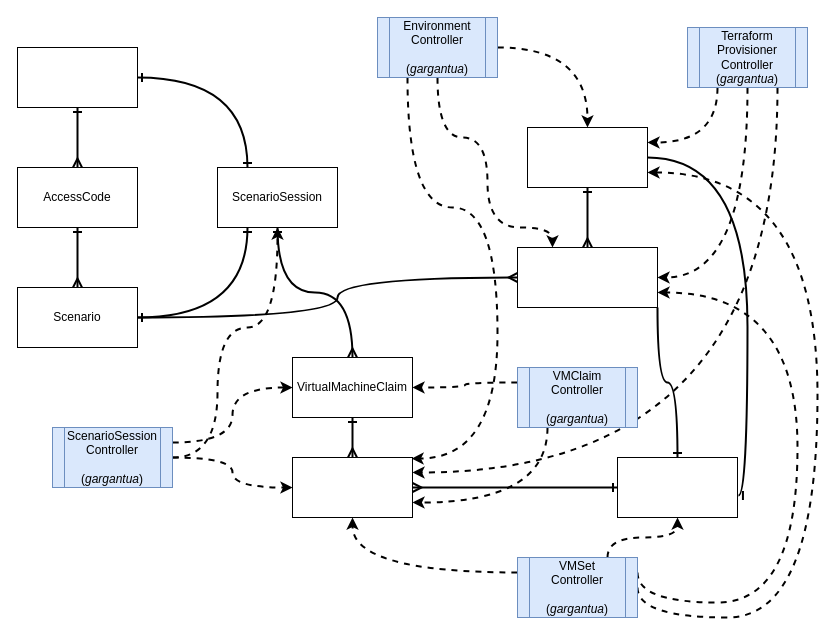
The diagram is 836 pixels wide and 636 high, and some of its shapes have lost their labels. Here are the shapes that lost their labels. From the top down, the box of each, then its label:
(16, 46, 138, 108): User
(526, 126, 648, 188): Environment
(516, 246, 658, 308): VirtualMachineTemplate
(292, 456, 412, 518): VirtualMachine
(616, 456, 738, 518): VirtualMachineSet
